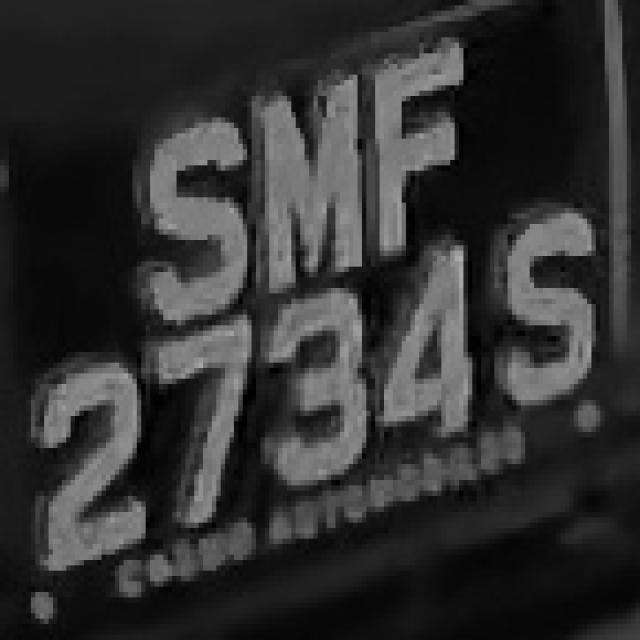2: (31, 352, 163, 597)
3: (260, 293, 384, 496)
4: (366, 230, 486, 470)
7: (146, 299, 264, 544)
F: (362, 32, 472, 256)
M: (252, 75, 375, 304)
S: (124, 107, 260, 320), (490, 192, 605, 427)
